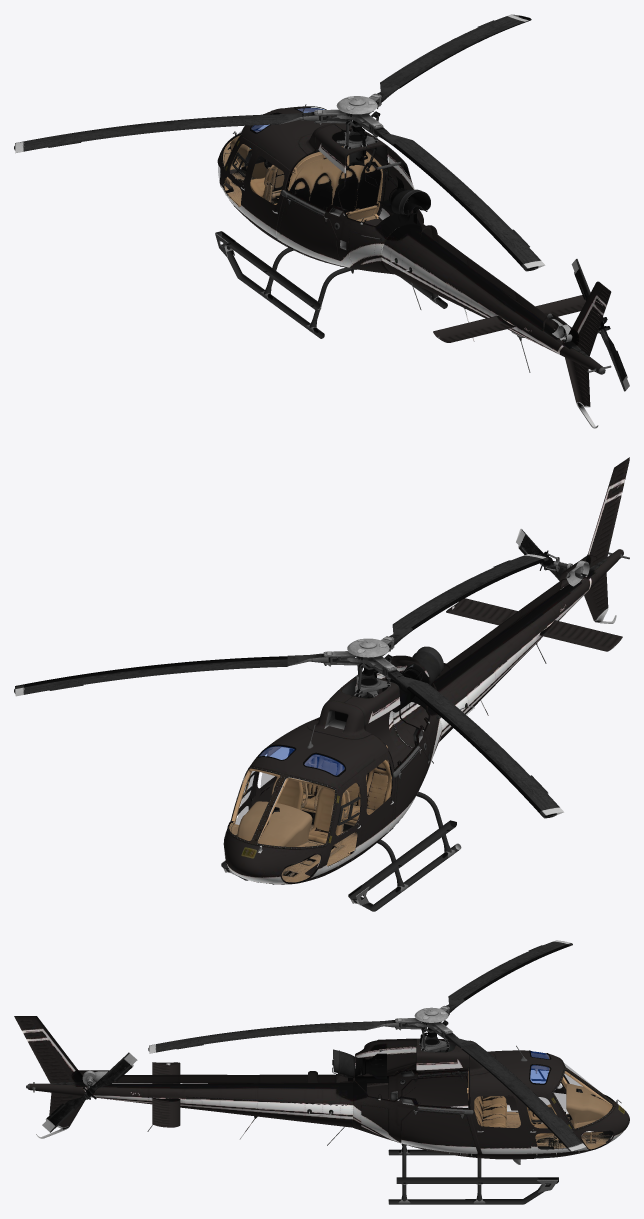
The picture shows the model from 3 angles, top to bottom: view 1: azimuth 30°, elevation 25°; view 2: azimuth 150°, elevation 25°; view 3: azimuth 270°, elevation 25°; orthographic projection. The views are drawn at different scales.
Visible parts, largest first — view 1: fuselage, main_rotor, interior, skids, doors, rotor_core; view 2: fuselage, main_rotor, interior, doors, skids, glass, rotor_core; view 3: fuselage, main_rotor, interior, doors, skids, rotor_core, glass.
Part boxes in pixels (<box>): fuselage: <box>217,104,611,428</box>; main_rotor: <box>14,14,590,297</box>; interior: <box>223,108,382,221</box>; skids: <box>215,231,447,338</box>; doors: <box>221,137,290,238</box>; rotor_core: <box>346,149,629,391</box>; fuselage: <box>223,457,629,884</box>; main_rotor: <box>14,528,563,818</box>; interior: <box>229,745,391,882</box>; doors: <box>237,748,400,874</box>; skids: <box>221,791,461,911</box>; glass: <box>224,746,344,853</box>; rotor_core: <box>519,545,589,586</box>; fuselage: <box>14,1016,629,1164</box>; main_rotor: <box>102,940,585,1151</box>; interior: <box>467,1052,613,1149</box>; doors: <box>464,1068,579,1153</box>; skids: <box>388,1143,558,1204</box>; rotor_core: <box>42,1050,445,1132</box>; glass: <box>530,1051,594,1109</box>.
Bounding box in the file's own units: 8.86 × 3.32 × 10.96.
8 materials, 8 textured.
